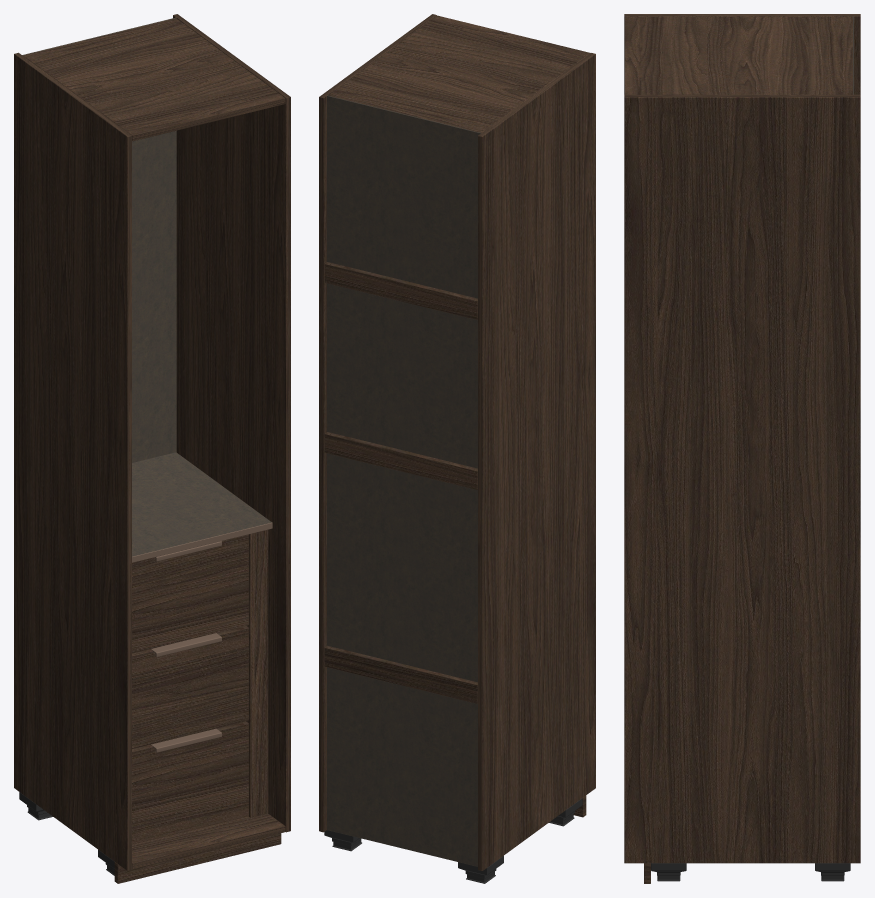
The picture shows the model from 3 angles, left to right: view 1: azimuth 30°, elevation 25°; view 2: azimuth 150°, elevation 25°; view 3: azimuth 270°, elevation 25°; orthographic projection. The views are drawn at different scales.
Parts seen in each view (by area): view 1: HK1001032, BONG_01; view 2: HK1001032; view 3: HK1001032.
Part boxes in pixels (left/top/right/bottom): HK1001032: left=14, top=14, right=290, bottom=883; BONG_01: left=151, top=541, right=221, bottom=752; HK1001032: left=319, top=14, right=595, bottom=883; HK1001032: left=624, top=14, right=860, bottom=883.
Size of the model in its own units: 0.5 by 2.2 by 0.6.
6 materials, 5 textured.
